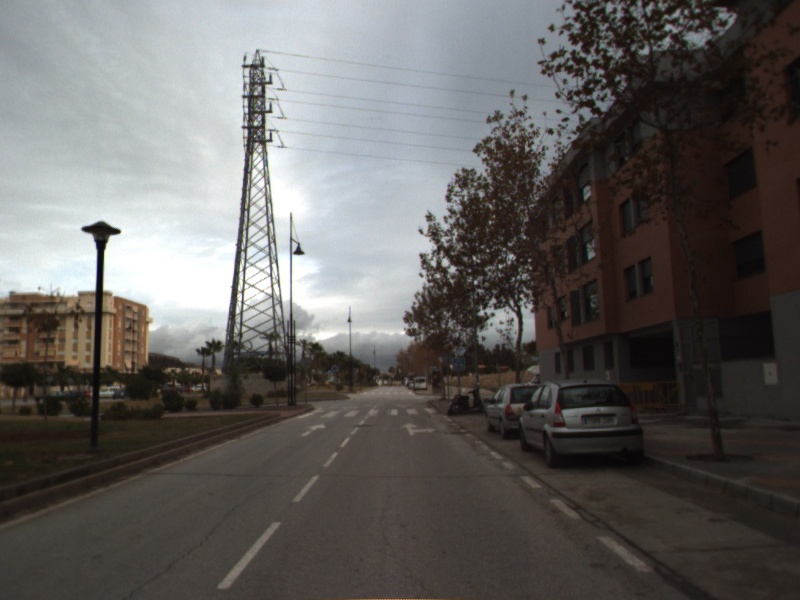STRAIGHT: (299, 421, 328, 439)
STRAIGHT_RIGHT: (399, 420, 438, 437)
